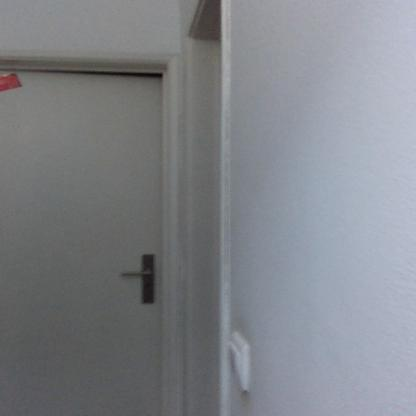door: (0, 69, 166, 416), (113, 270, 154, 280)
